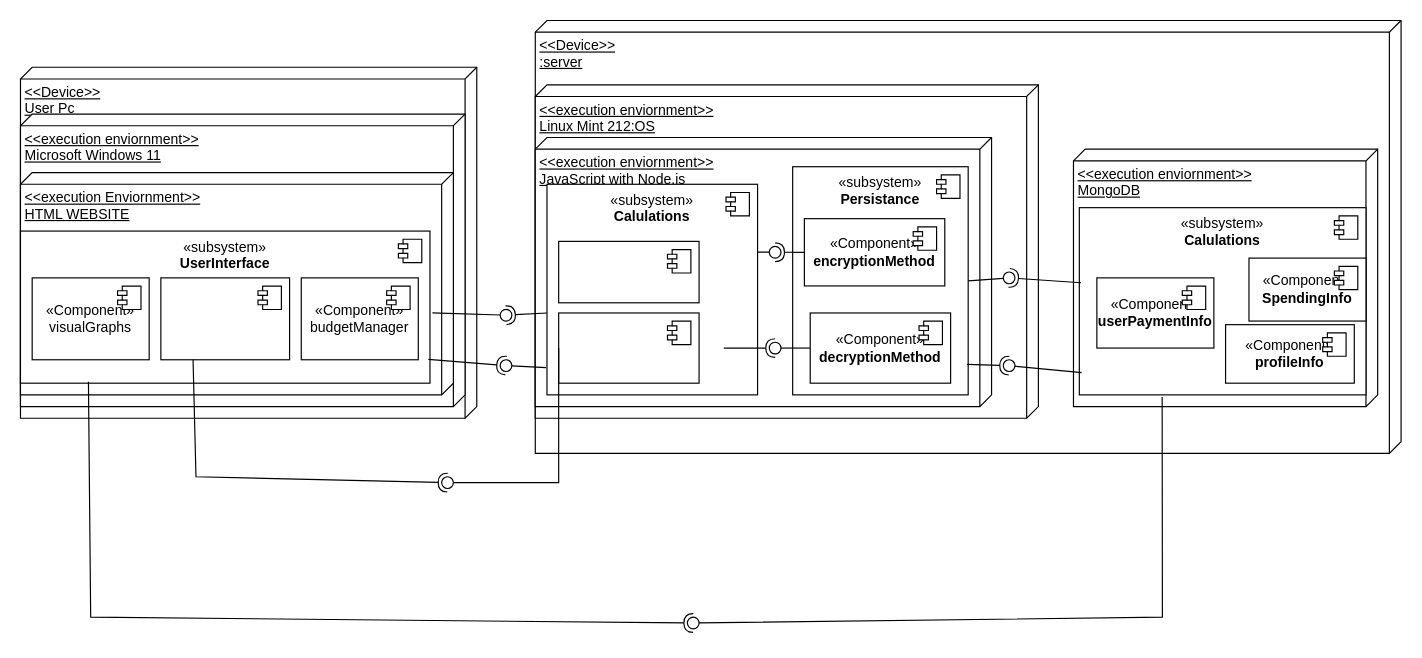
This 1422x658 diagram has some shape labels left out. The centre of each missing label's shape, as x and y in pixels:
"«Component» AdviceGenerator" belongs at point 628,347.
"«Component» advicePage" belongs at point 225,318.
"«Component» BudgetOperations" belongs at point 628,271.
